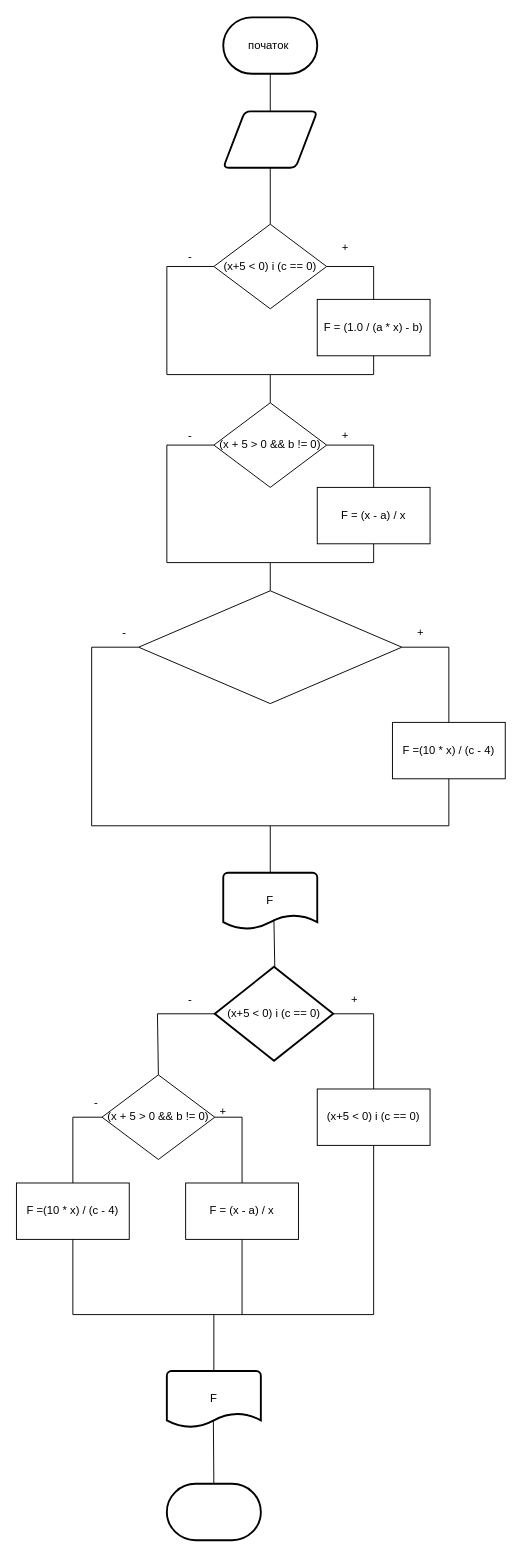
The diagram is 522 pixels wide and 1557 high, and some of its shapes have lost their labels. The box of each missing label's shape, as (x1, y1, x2, y2) in pixels:
(!(x + 5 < 0 && c == 0) && !(x + 5 > 0 && c != 0)): (138, 590, 402, 704)
a, b, c,x: (222, 110, 318, 168)
